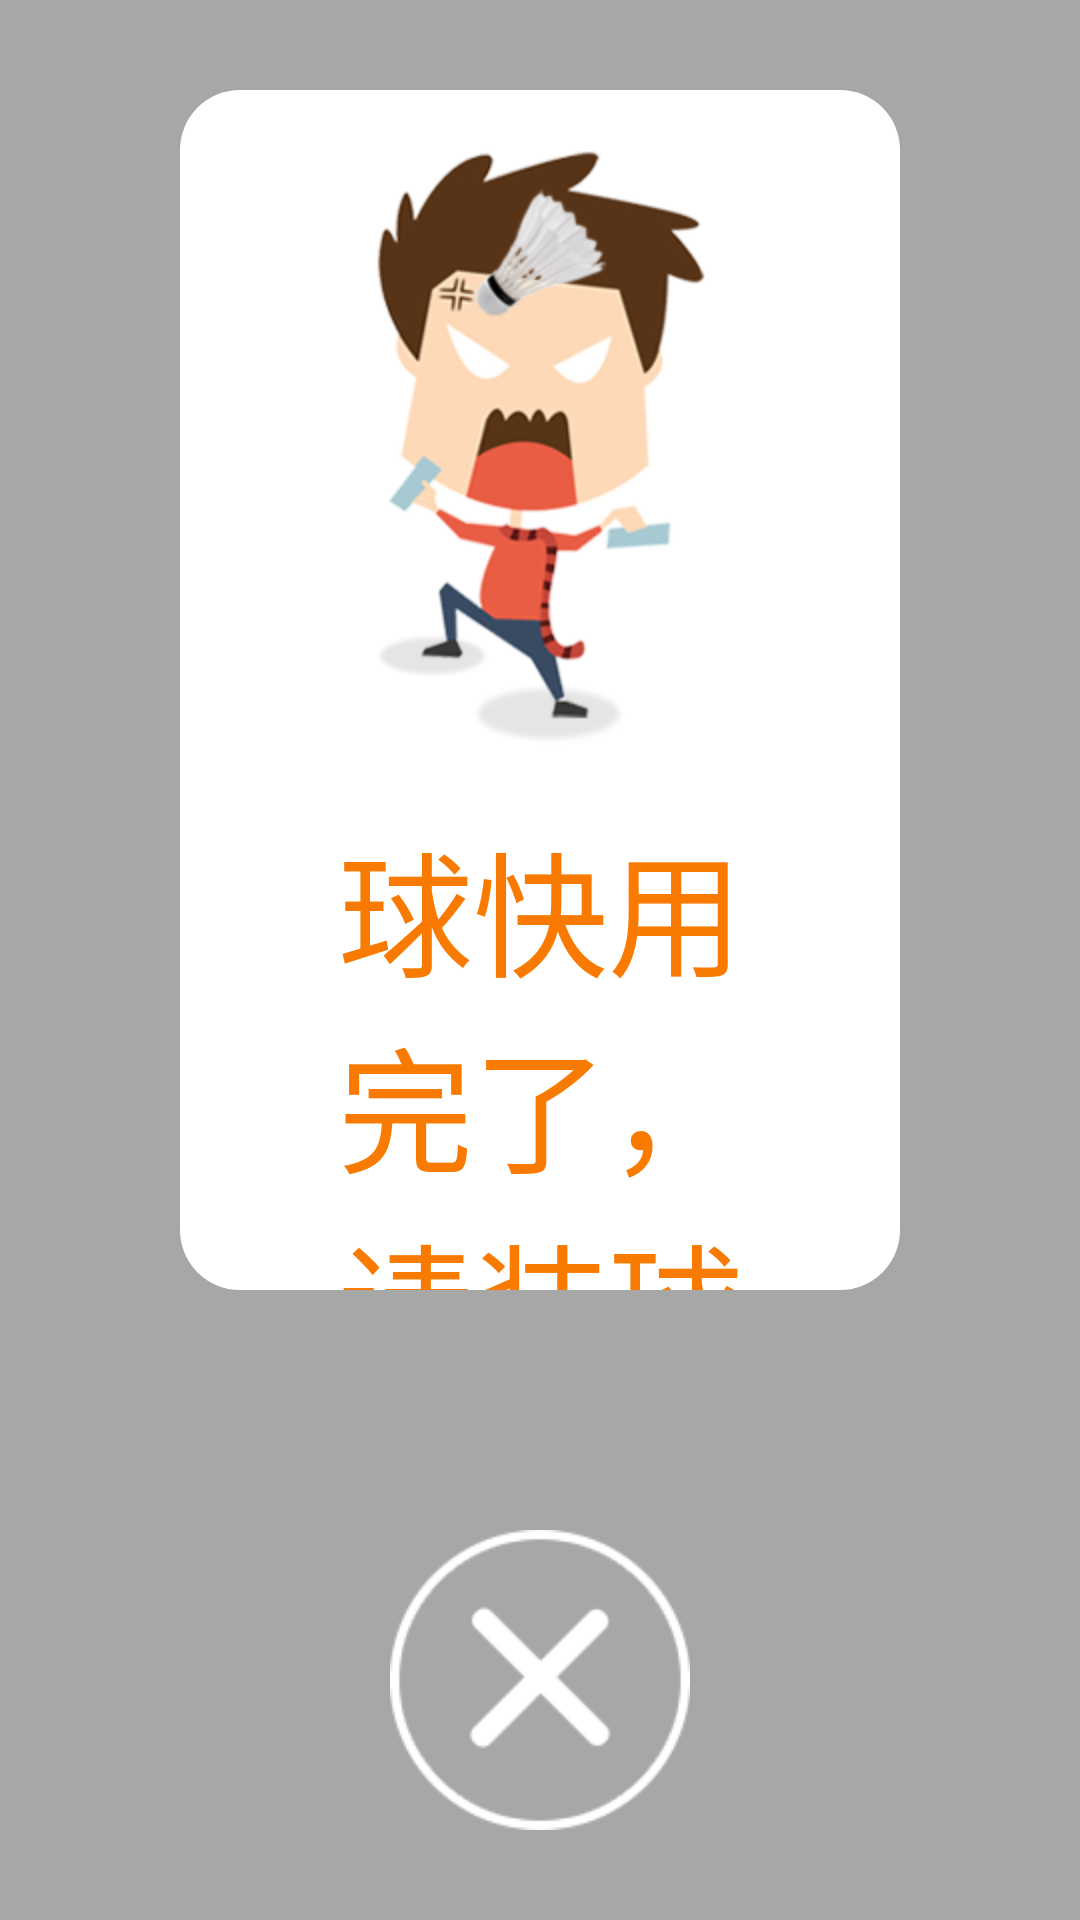

Locate icon controls on the screen. Image size 1080×1920, boxes as bbox(x1, y1, x2, y2).
close dia: bbox(390, 1530, 690, 1830)
